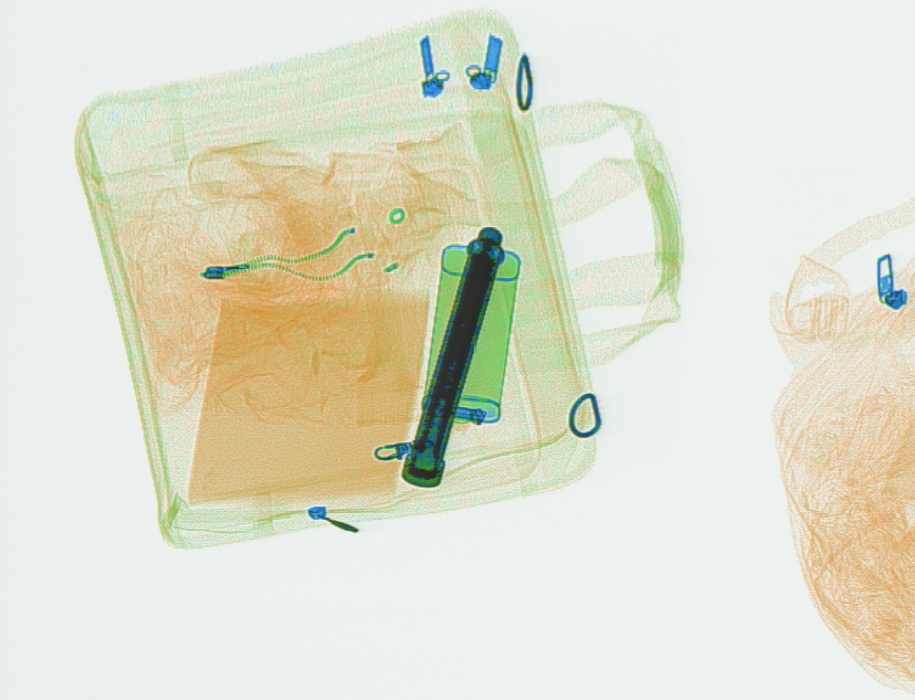zippooil: (419, 241, 522, 428)
